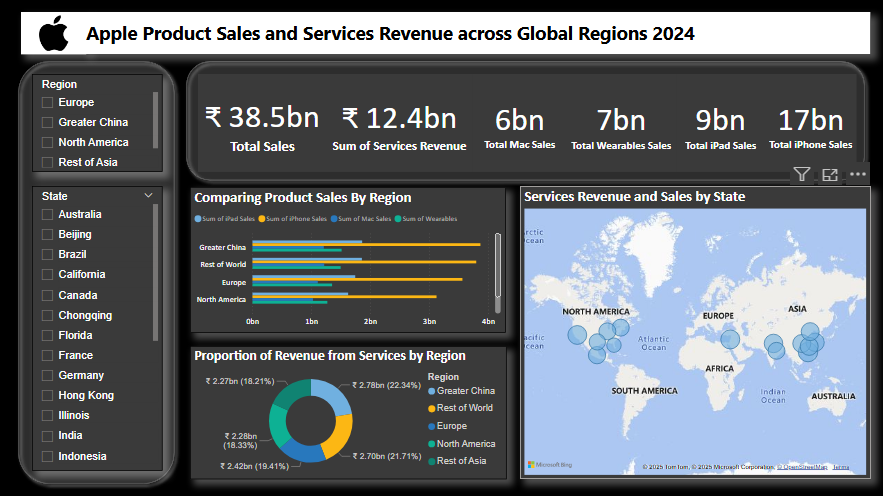

The page's visual inventory and layout, read from the dashboard file:
{"tool":"powerbi","page":{"name":"Apple Dashboard","canvas":[1280,720],"ordinal":0},"visuals":[{"type":"shape","box":[262.6,80,994.8,189.6],"z":0},{"type":"image","box":[33,19.1,93.9,60.9],"z":1000},{"type":"shape","box":[127,19.1,1130.4,60.9],"z":2000},{"type":"card","fields":{"Values":["apple_sales_2024.Total Sales"]},"box":[288,108,185.8,141.1],"z":3000},{"type":"shape","box":[20.9,80,243.5,627.8],"z":4000},{"type":"slicer","fields":{"Values":["apple_sales_2024.Region"]},"box":[48.7,107.8,187.8,140.9],"z":5000},{"type":"slicer","fields":{"Values":["apple_sales_2024.State"]},"box":[48.7,269.6,187.8,410.4],"z":6000},{"type":"card","fields":{"Values":["apple_sales_2024.Total iPad_sales"]},"box":[975.7,107.8,128.7,140.9],"z":7000},{"type":"card","fields":{"Values":["apple_sales_2024.Total iPhone_sales"]},"box":[1104.3,107.8,132.2,140.9],"z":8000},{"type":"card","fields":{"Values":["apple_sales_2024.Total mac_sales"]},"box":[682.6,108,138.2,141.1],"z":9000},{"type":"card","fields":{"Values":["apple_sales_2024.Total wearables_sales"]},"box":[819.1,107.8,156.5,140.9],"z":10000},{"type":"card","fields":{"Values":["Sum(apple_sales_2024.Services Revenue)"]},"box":[473,107.8,208.7,140.9],"z":11000},{"type":"clusteredBarChart","title":"Comparing Product Sales By Region","fields":{"Category":["apple_sales_2024.Region"],"Y":["Sum(apple_sales_2024.iPad Sales)","Sum(apple_sales_2024.iPhone Sales)","Sum(apple_sales_2024.Mac Sales)","Sum(apple_sales_2024.Wearables)"]},"box":[276.5,270.7,455,210.2],"z":12000},{"type":"donutChart","title":"Proportion of Revenue from Services by Region","fields":{"Category":["apple_sales_2024.Region"],"Y":["Sum(apple_sales_2024.Services Revenue)"]},"box":[276.5,499.7,456.5,191.5],"z":13000},{"type":"map","fields":{"Category":["apple_sales_2024.State"],"Size":["Sum(apple_sales_2024.Services Revenue)"]},"box":[751.7,269.3,505.4,421.9],"z":15000}]}

Visuals, with their boxes in screenshot pixels (x1, y1, x2, y2), scaled from the page's 1280x720 canvas onto the 883x496 screenshot:
shape: detection(181, 55, 867, 186)
image: detection(23, 13, 88, 55)
shape: detection(88, 13, 867, 55)
card - apple_sales_2024.Total Sales: detection(199, 74, 327, 172)
shape: detection(14, 55, 182, 488)
slicer - apple_sales_2024.Region: detection(34, 74, 163, 171)
slicer - apple_sales_2024.State: detection(34, 186, 163, 468)
card - apple_sales_2024.Total iPad_sales: detection(673, 74, 762, 171)
card - apple_sales_2024.Total iPhone_sales: detection(762, 74, 853, 171)
card - apple_sales_2024.Total mac_sales: detection(471, 74, 566, 172)
card - apple_sales_2024.Total wearables_sales: detection(565, 74, 673, 171)
card - Sum(apple_sales_2024.Services Revenue): detection(326, 74, 470, 171)
"Comparing Product Sales By Region" clusteredBarChart: detection(191, 186, 505, 331)
"Proportion of Revenue from Services by Region" donutChart: detection(191, 344, 506, 476)
map - apple_sales_2024.State x Sum(apple_sales_2024.Services Revenue): detection(519, 186, 867, 476)
